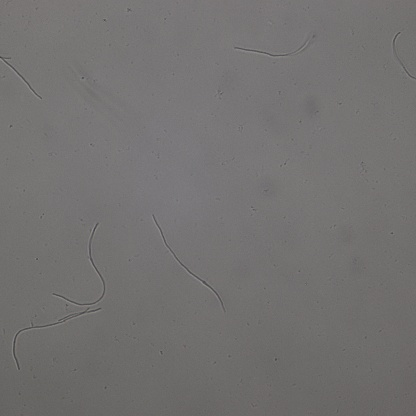Sensitive: (152, 216, 226, 311), (11, 308, 100, 371), (48, 223, 107, 306), (1, 56, 43, 98), (234, 36, 312, 57), (391, 31, 416, 80)
